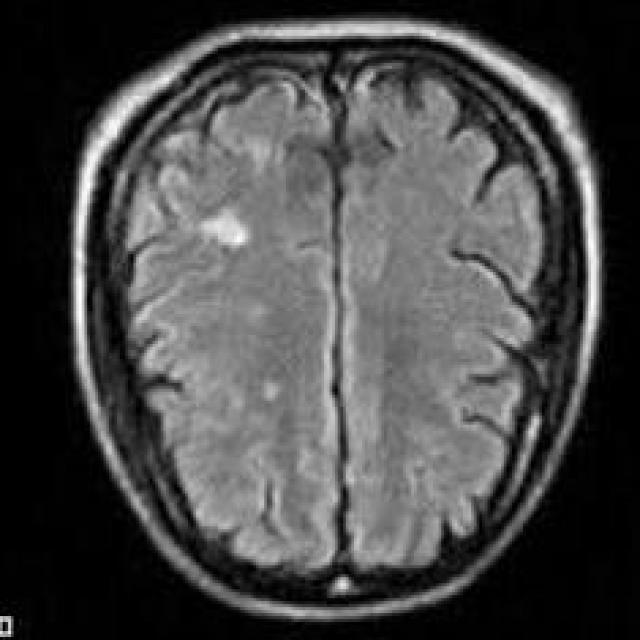notumor: (74, 18, 602, 619)
